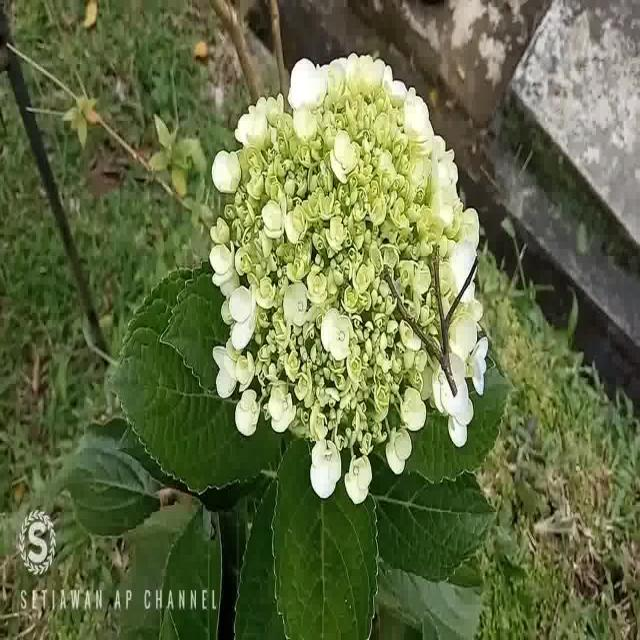Flower: (209, 45, 490, 503)
